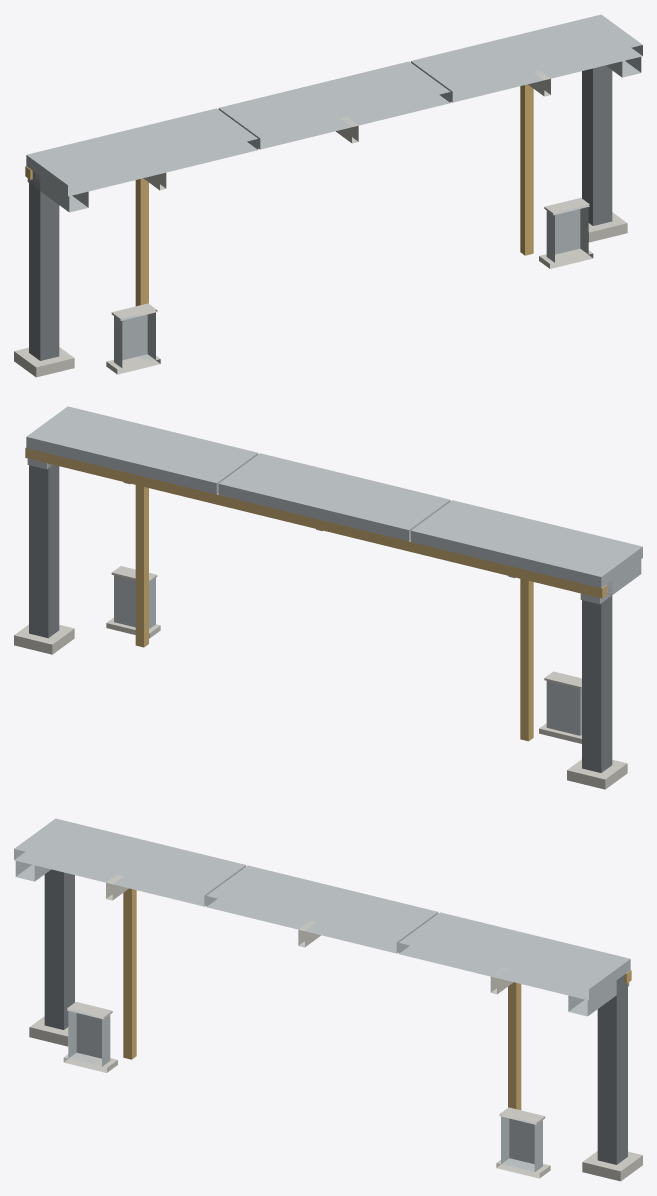
The model's file is lunar-5-4.glb.
The picture shows the model from 3 angles, top to bottom: view 1: azimuth 30°, elevation 25°; view 2: azimuth 150°, elevation 25°; view 3: azimuth 330°, elevation 25°; orthographic projection.
Visible parts, largest first — view 1: lunar-5-4; view 2: lunar-5-4; view 3: lunar-5-4.
Part boxes in pixels (box(x1,y1,x2,y2)): lunar-5-4: box(14, 14, 642, 377); lunar-5-4: box(14, 406, 642, 789); lunar-5-4: box(14, 818, 642, 1181).
Bounding box in the file's own units: 49.2 × 16.5 × 6.6.
